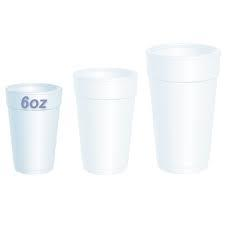Plastic cup: (4, 5, 225, 225)
